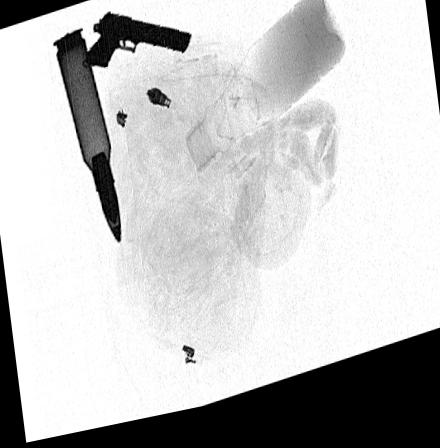Bullet: (51, 32, 118, 250)
Gun: (82, 15, 191, 73)
